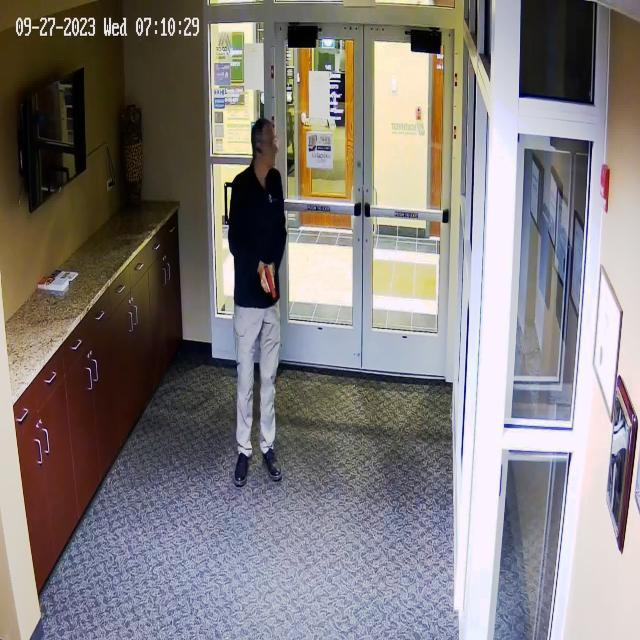Gun: (251, 252, 286, 312)
